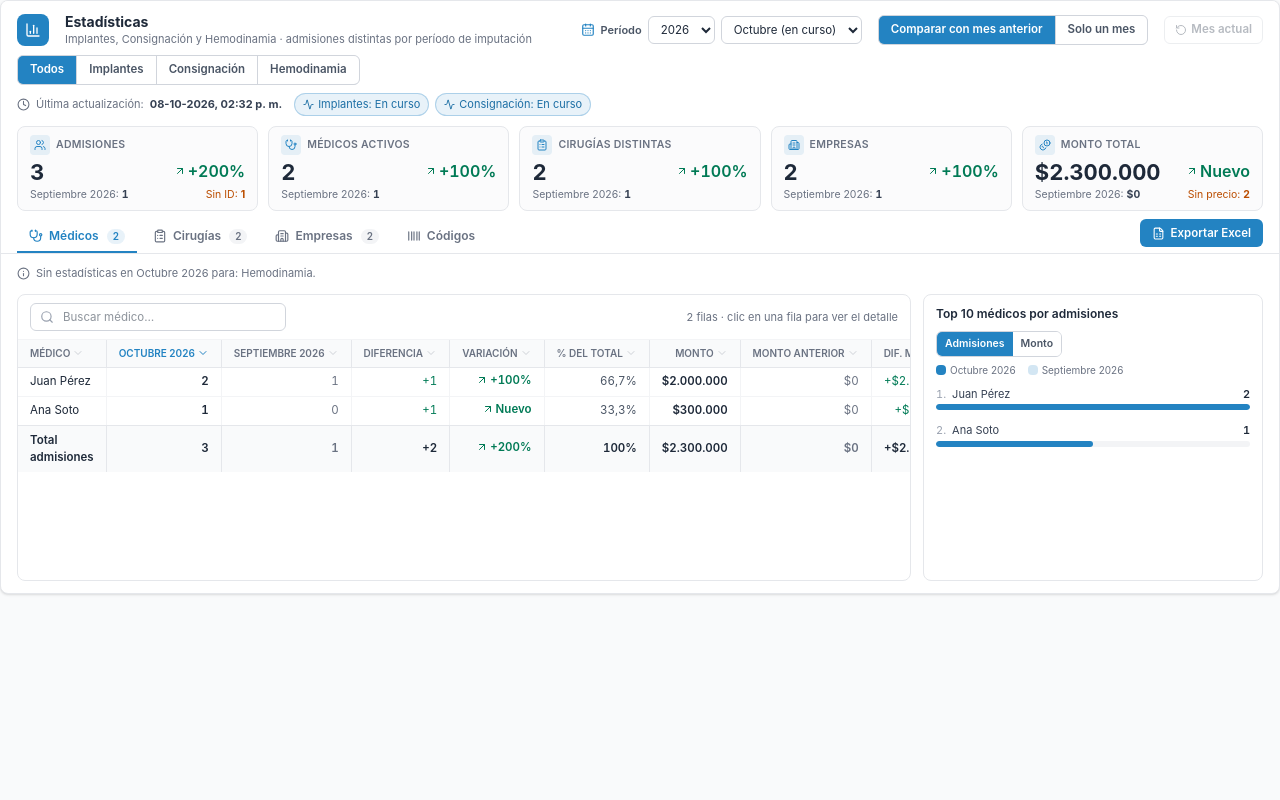
it: Estadísticas: montos y códigos › detalle de un médico: sección Códigos ordenada por monto
What coordinates should you click on to do the following:
click the button "Juan Pérez"
I would click on:
 (60, 382)
Its box is [30, 373, 91, 390].
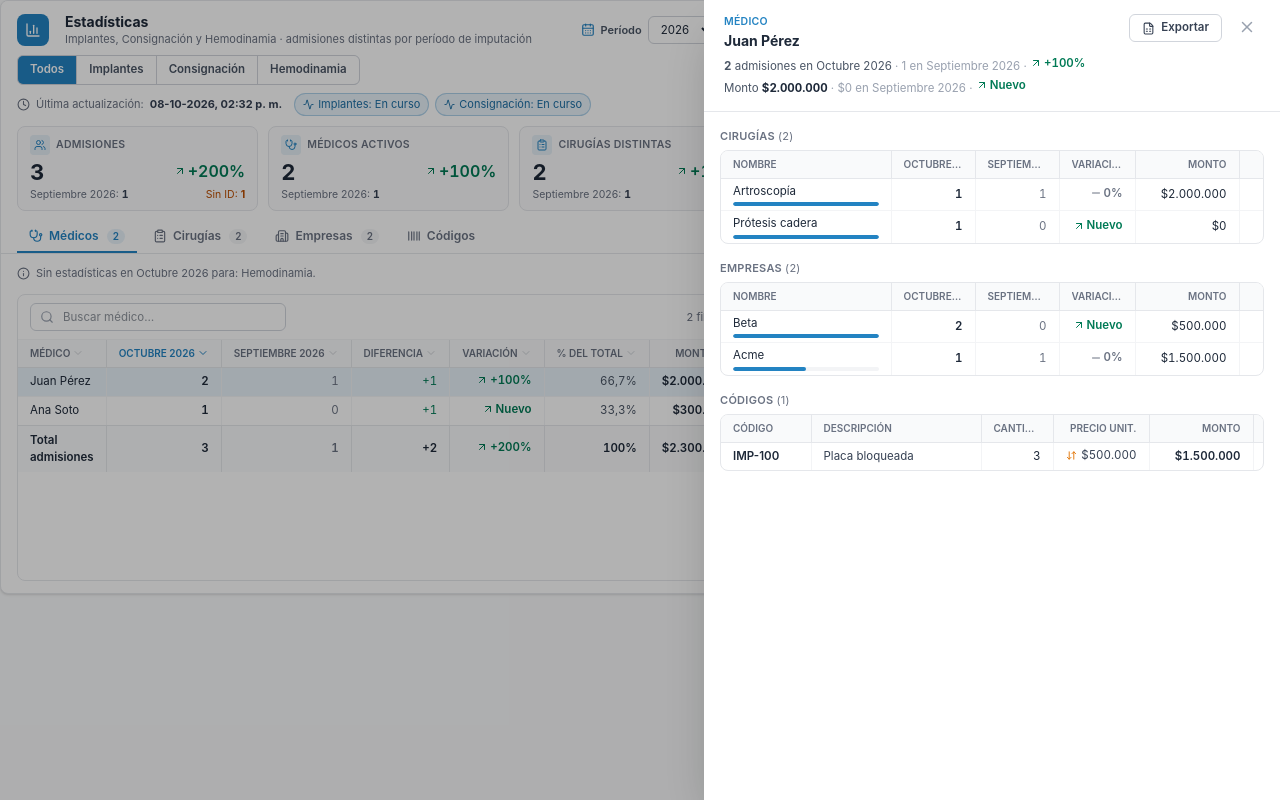
expect the text "IMP-100" is shown: met, box [721, 442, 811, 470]
expect the heading "Códigos (1)" is shown: met, box [720, 392, 790, 406]
